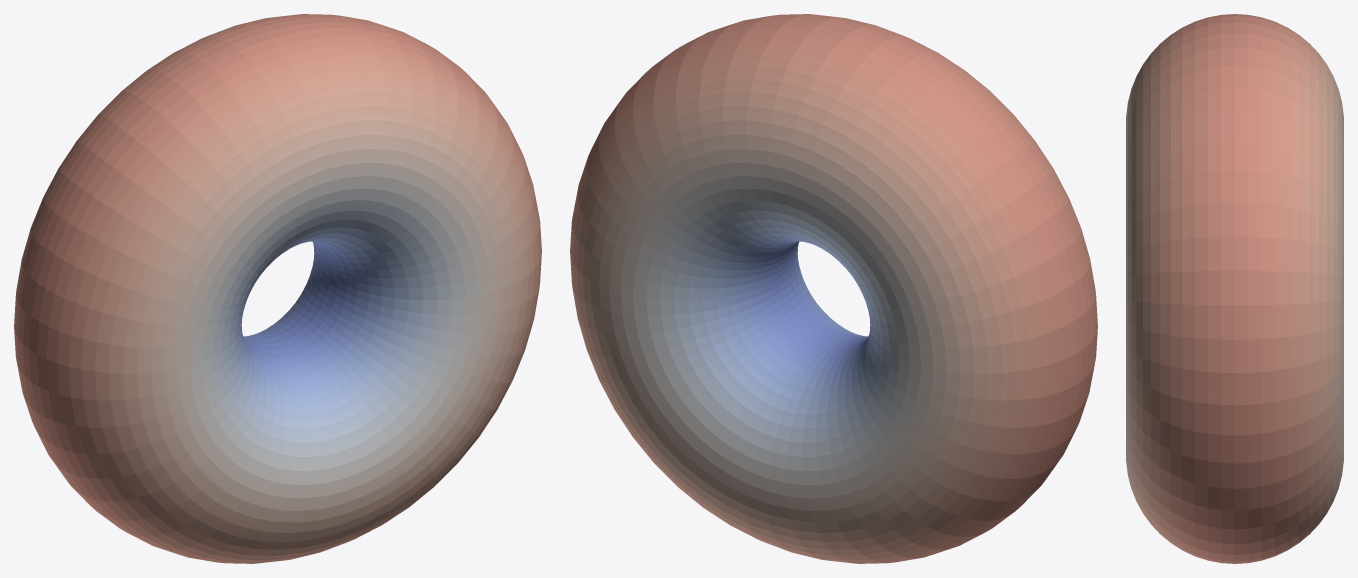
3 renders of one model, left to right at view 1: azimuth 30°, elevation 25°; view 2: azimuth 150°, elevation 25°; view 3: azimuth 270°, elevation 25°, orthographic. The views are drawn at different scales.
Visible parts, largest first — view 1: world; view 2: world; view 3: world.
Part boxes in pixels (x1,y1,x2,y2): world: (14,14,541,563); world: (570,14,1097,563); world: (1126,14,1343,563).
Bounding box in the file's own units: 23.2 × 23.15 × 9.18.
